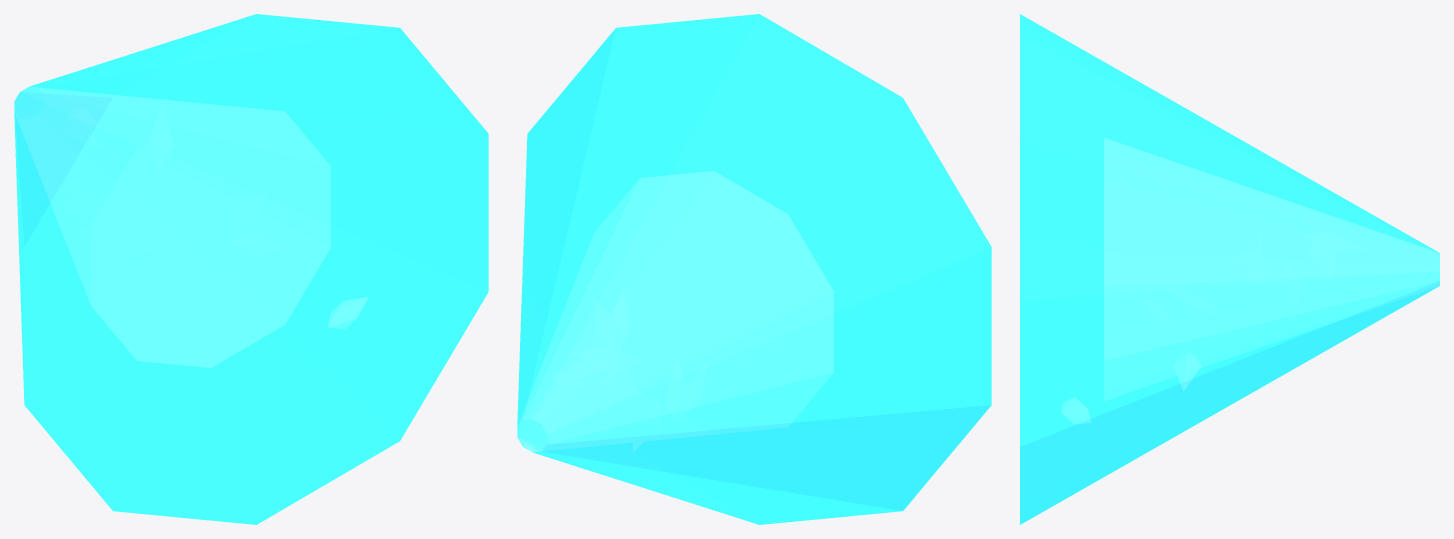
3 renders of one model, left to right at view 1: azimuth 30°, elevation 25°; view 2: azimuth 150°, elevation 25°; view 3: azimuth 270°, elevation 25°, orthographic. The views are drawn at different scales.
Visible parts, largest first — view 1: fx_cone_f; view 2: fx_cone_f; view 3: fx_cone_f.
Boxes of the visible parts, x1,y1,x2,y2 form: fx_cone_f: (14,14,488,524); fx_cone_f: (517,14,991,524); fx_cone_f: (1020,14,1439,524).
Bounding box in the file's own units: 1.18 × 1.24 × 1.
